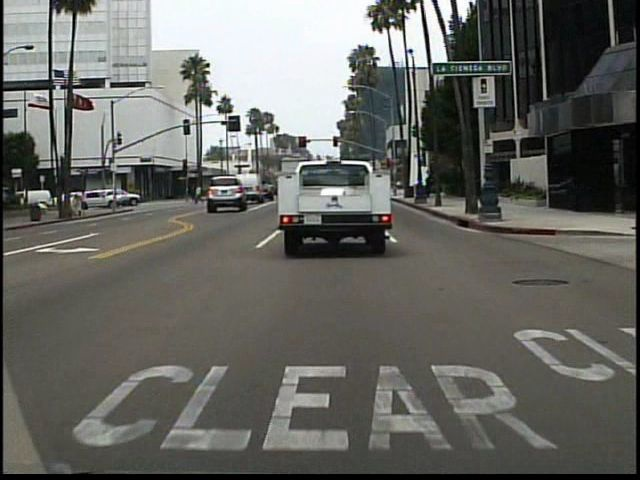person: (79, 187, 92, 213)
